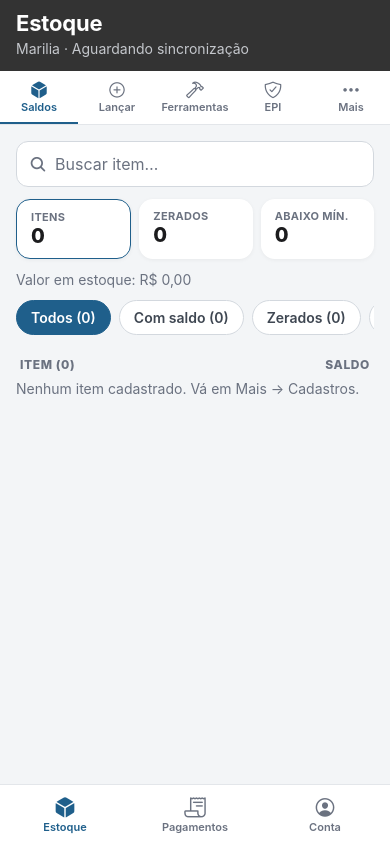
Compras a faturar na tela › almoxarife que também pede pagamentos (Marilia) lança compra pelo pilar Pagamentos
Expected: the element with test id "aba-lancar" is shown, [99,80,135,114]
Click the element with test id "pilar-pagamentos" at (195, 815), box [162,796,228,834]
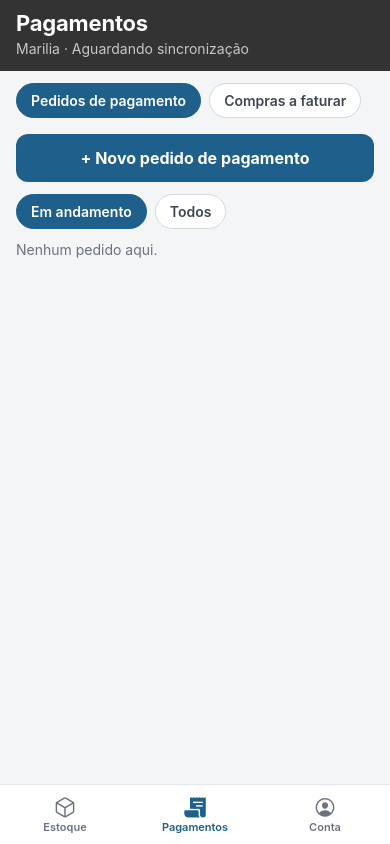
Click the element with test id "tela-compras" at (285, 100), box [209,83,361,118]
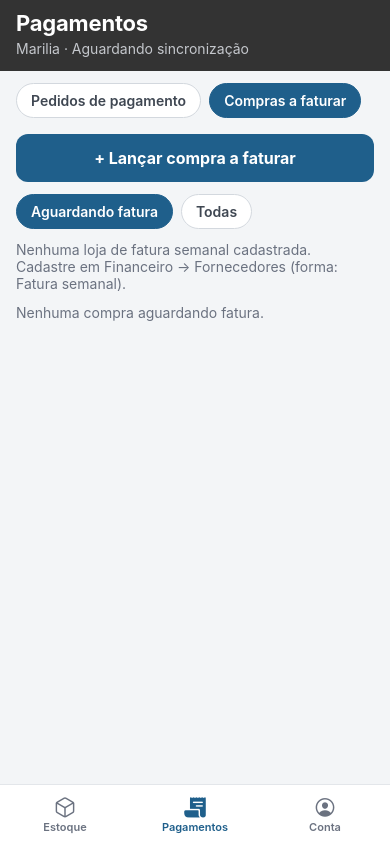
Result: the element with test id "nova-compra" is shown at [16,134,374,182]
